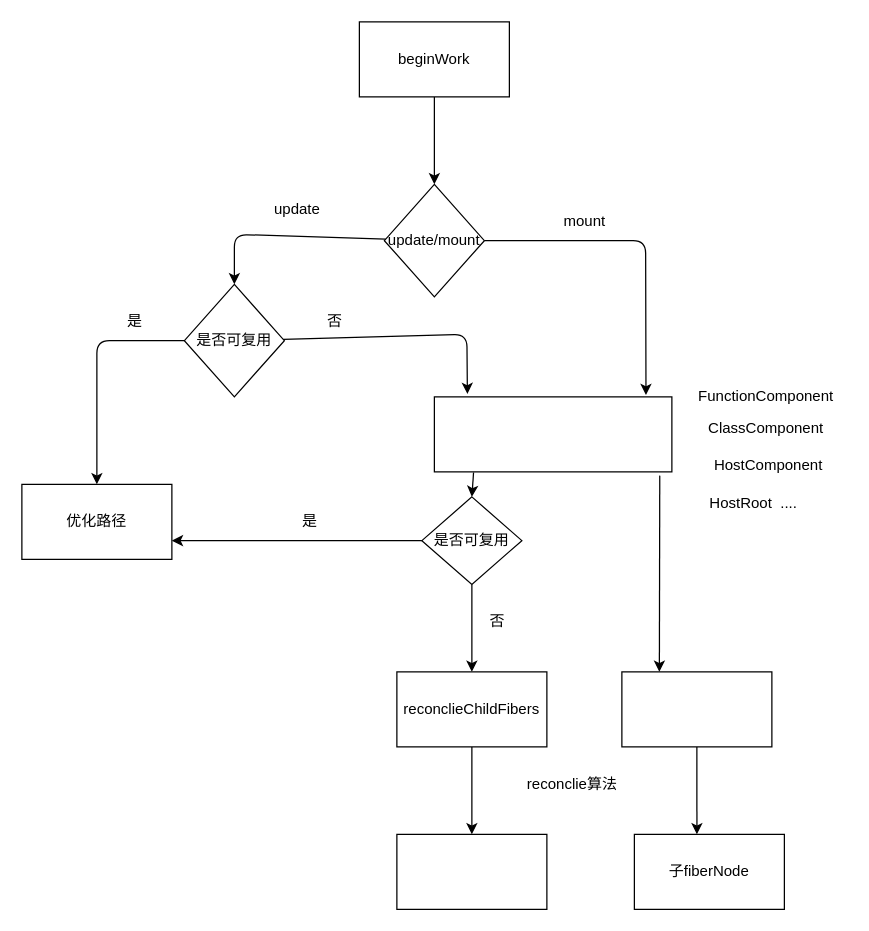
Image size: 869x931. Some labels were removed from this diagram. Here are the shapes that lost their labels. From the top down, the centre of each, then its label:
the point at 552,434: 根据wip.tag区别（进入不同类型元素的处理分支）
the point at 696,709: mountChildFibers
the point at 471,871: 带flags的子 fiberNode
